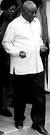boots: (0, 108, 13, 116), (15, 120, 23, 128)
hard-hat: (1, 0, 1, 0)
ppe-suit: (0, 7, 20, 127)
